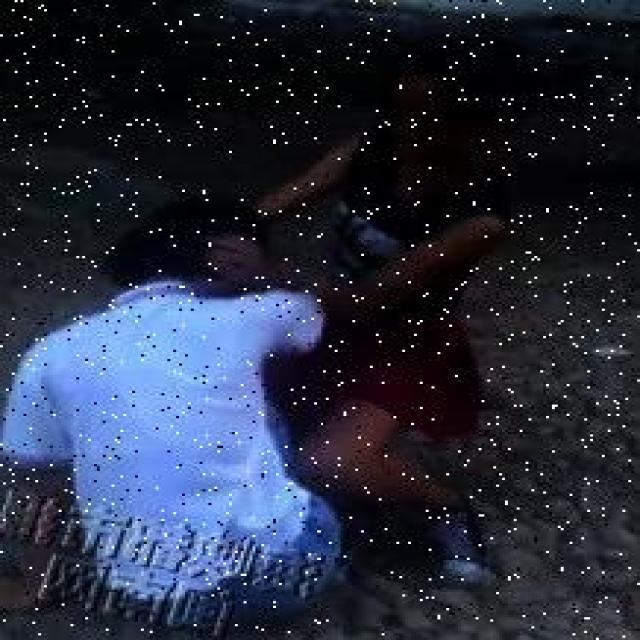fall: (30, 222, 296, 608)
